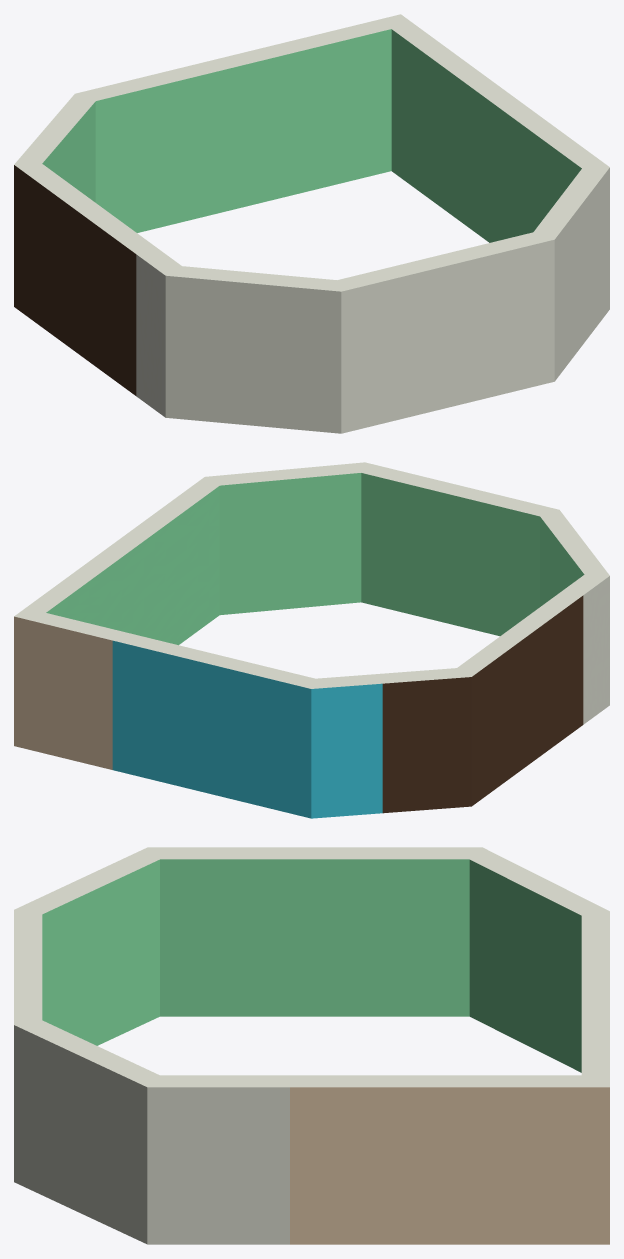
The model's file is conservatory_room_walls.fbx.
The picture shows the model from 3 angles, top to bottom: view 1: azimuth 30°, elevation 25°; view 2: azimuth 150°, elevation 25°; view 3: azimuth 270°, elevation 25°; orthographic projection. The views are drawn at different scales.
Visible parts, largest first — view 1: Plane; view 2: Plane; view 3: Plane.
Boxes of the visible parts, left/top/right/bottom form: Plane: left=14, top=14, right=609, bottom=433; Plane: left=14, top=462, right=609, bottom=818; Plane: left=14, top=847, right=609, bottom=1244.
Bounding box in the file's own units: 1309 × 400 × 1375.
